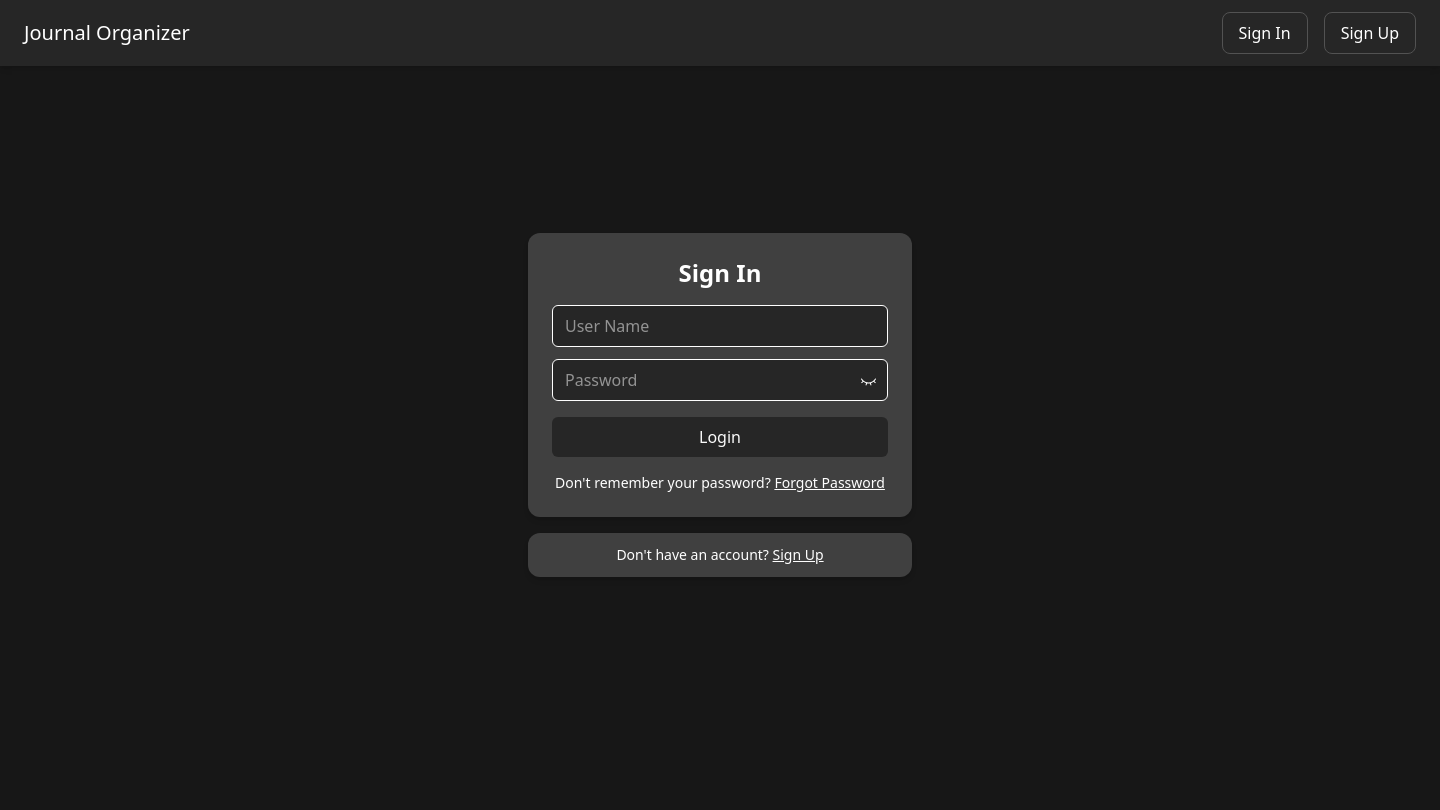
Test case: Login Component › handles login error
The width and height of the screenshot is (1440, 810).
Type "wronguser" into the field with placeholder "User Name" at (720, 326), box x1=552 y1=305 x2=888 y2=347
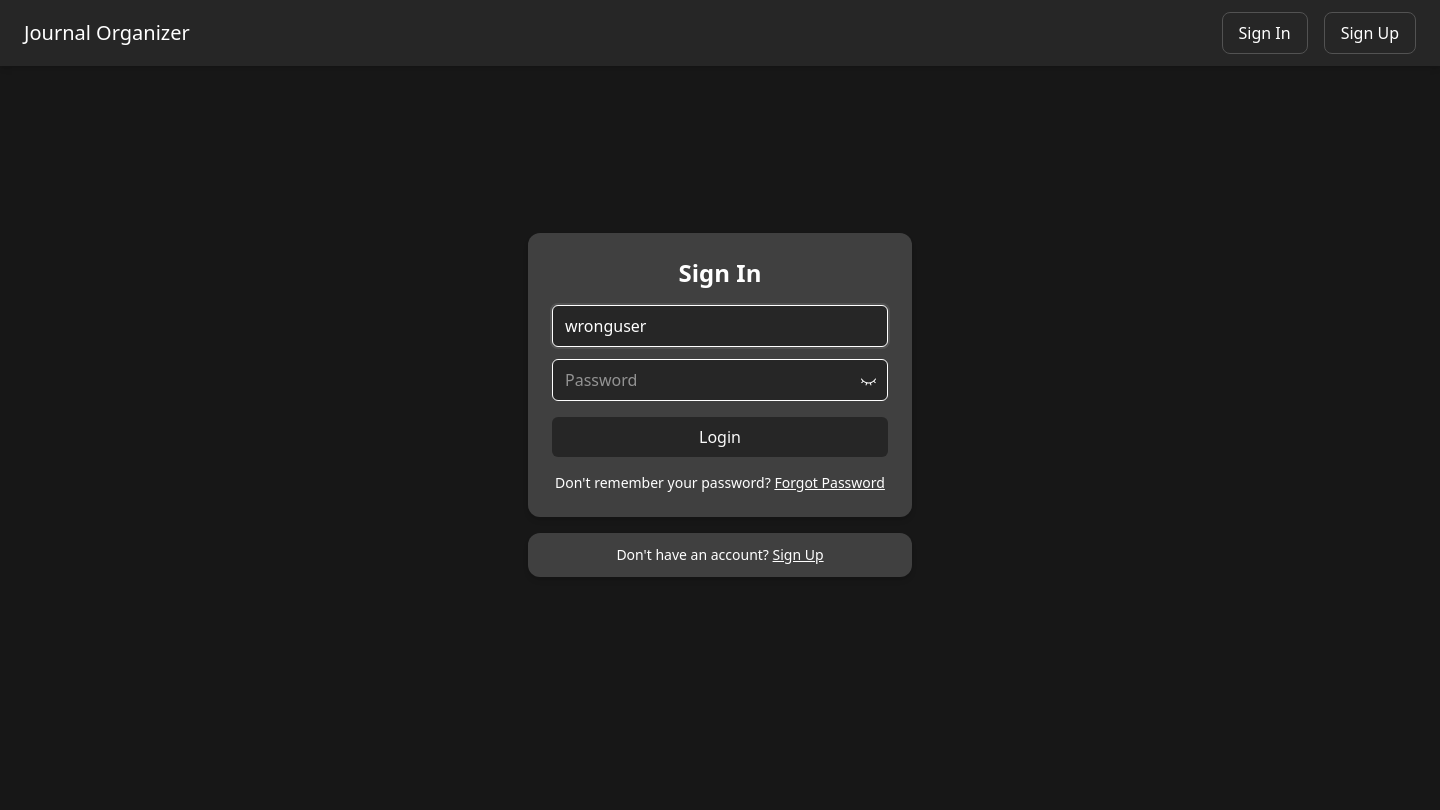
Type "wrongpass" into the password field with placeholder "Password" at (720, 380), box x1=552 y1=359 x2=888 y2=401
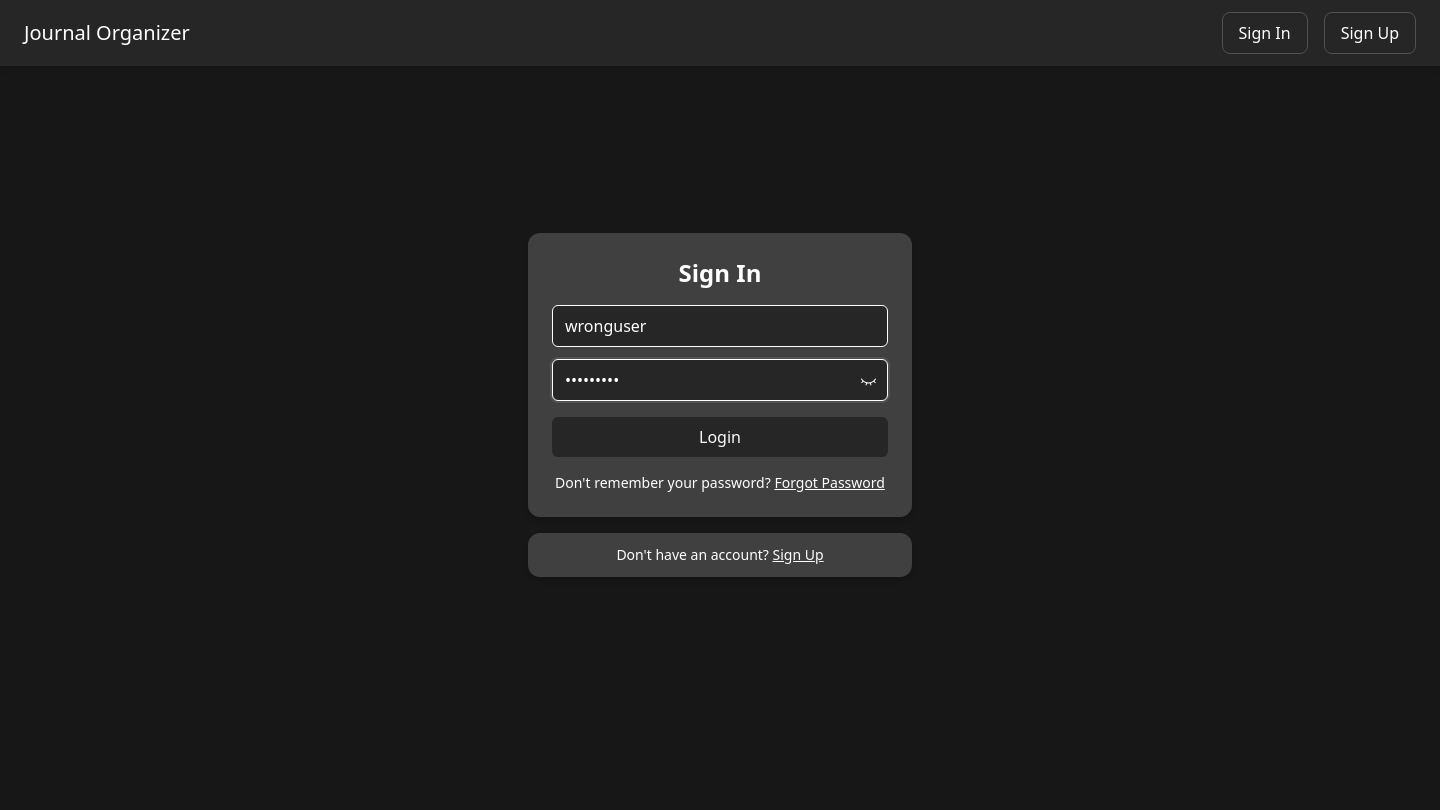
Click the button "Login" at (720, 437), box x1=552 y1=417 x2=888 y2=457
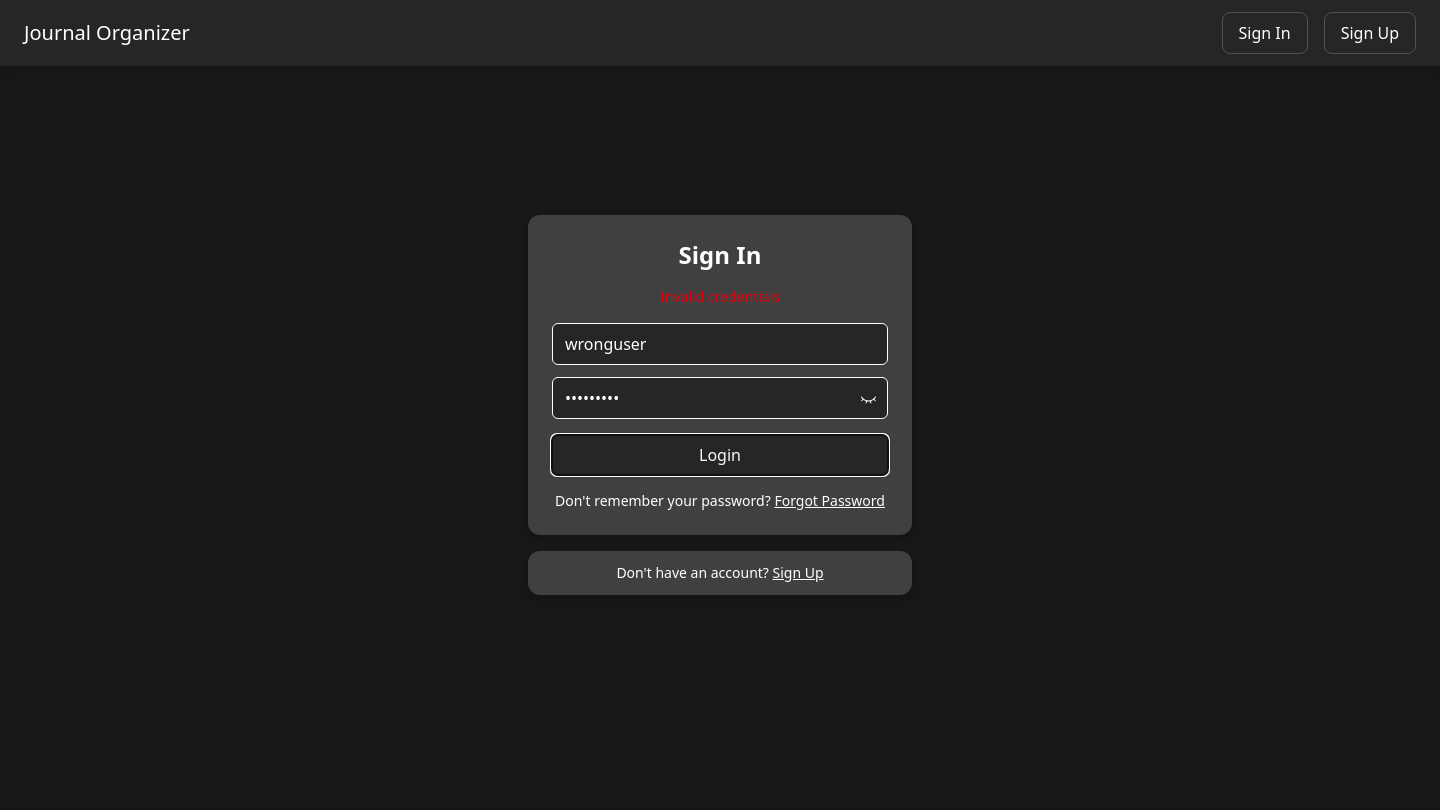
Now the text "Invalid credentials" is shown, box x1=660 y1=287 x2=780 y2=307
